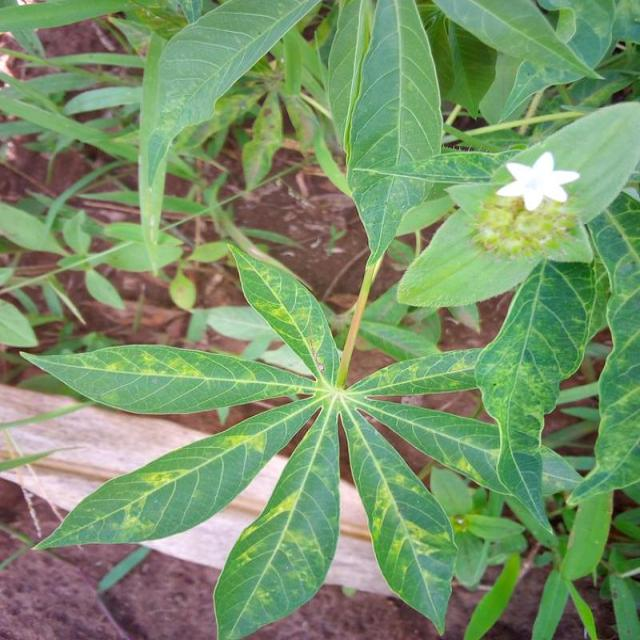cassava leaf: (15, 1, 638, 637), (396, 98, 638, 311), (137, 0, 321, 273)
